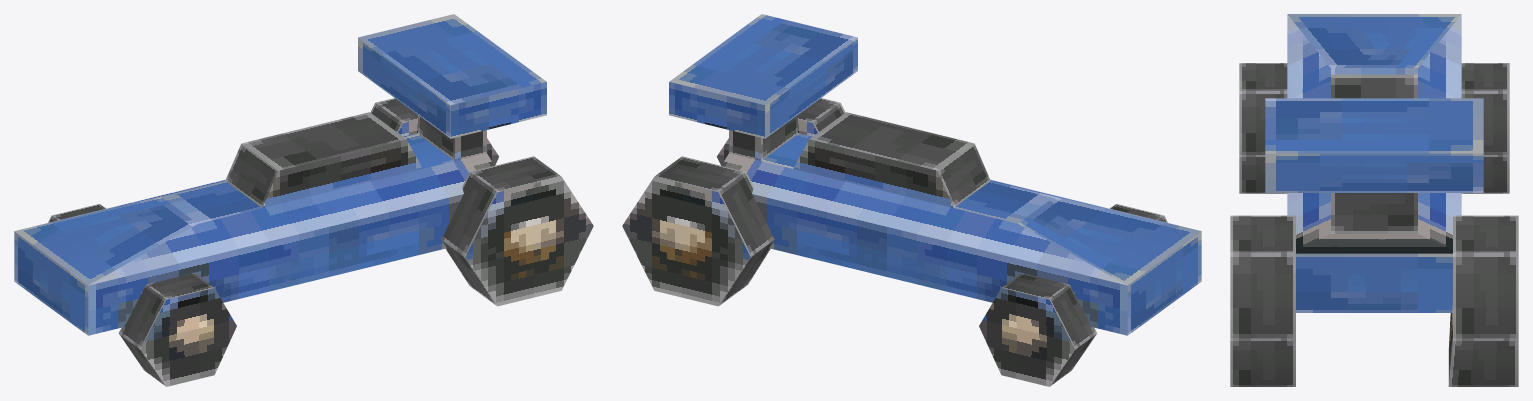
The model's file is car25.glb.
3 views of the same model, side by side, from view 1: azimuth 30°, elevation 25°; view 2: azimuth 150°, elevation 25°; view 3: azimuth 270°, elevation 25° (orthographic). The views are drawn at different scales.
Visible parts, largest first — view 1: car25; view 2: car25; view 3: car25.
Boxes of the visible parts, x1,y1,x2,y2 form: car25: (14, 14, 593, 386); car25: (622, 14, 1201, 386); car25: (1230, 14, 1518, 386).
Size of the model in its own units: 150 by 60 by 66.
Materials: 1 (1 with a texture image).
